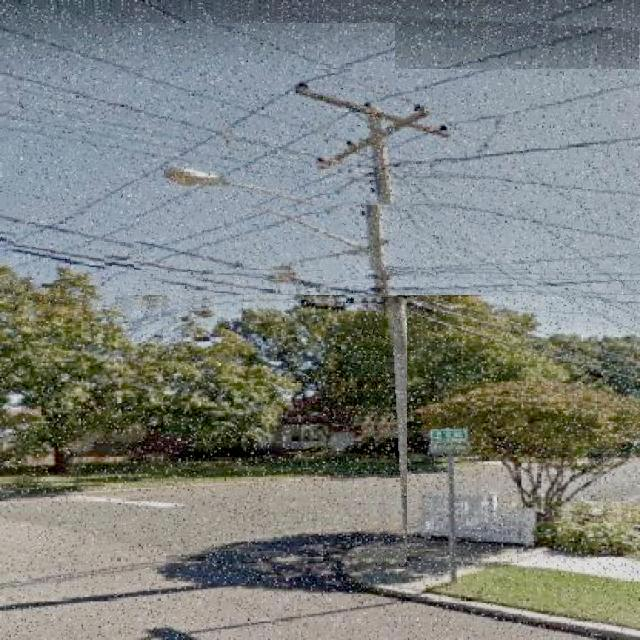pole: (359, 113, 407, 569)
wire: (1, 21, 612, 249), (134, 1, 614, 270), (72, 38, 638, 249), (0, 70, 640, 202), (128, 123, 639, 256), (0, 24, 395, 178), (104, 149, 496, 285), (0, 246, 639, 302), (0, 214, 319, 280), (0, 237, 325, 295), (523, 273, 640, 280)
